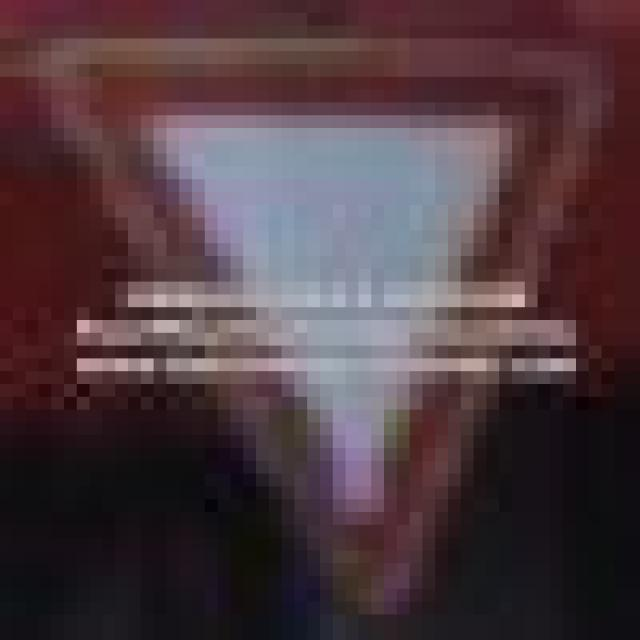GIVE_WAY: (38, 26, 628, 602)
